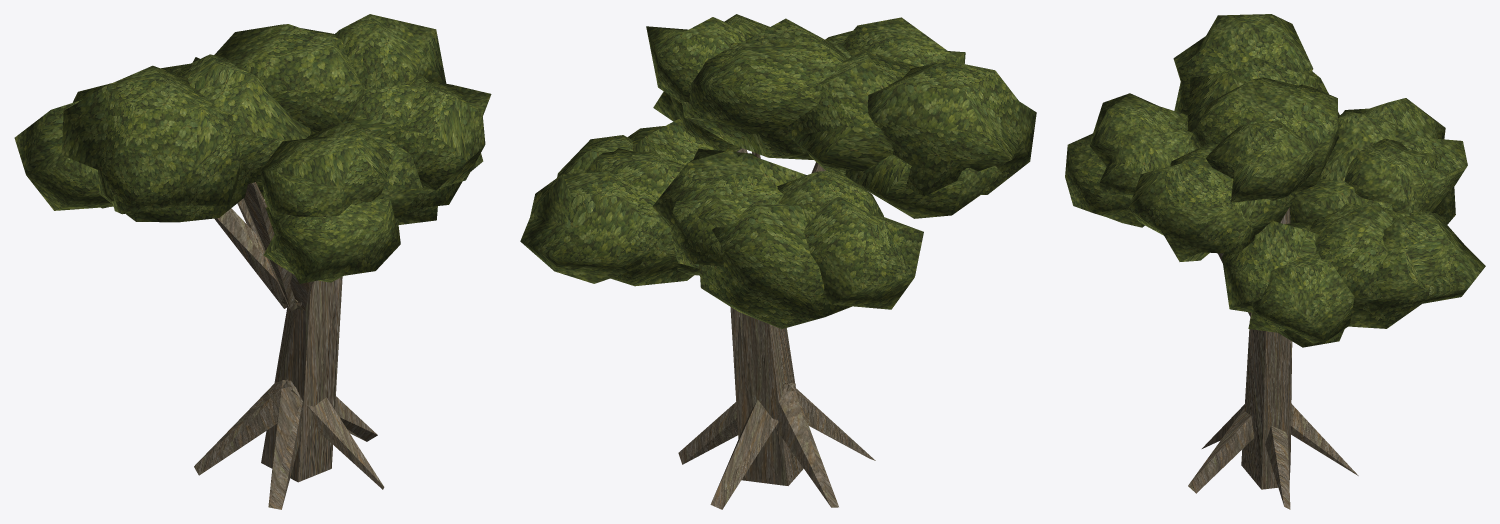
Rendered from tree_oak_b.gltf.
The picture shows the model from 3 angles, left to right: view 1: azimuth 30°, elevation 25°; view 2: azimuth 150°, elevation 25°; view 3: azimuth 270°, elevation 25°; orthographic projection. The views are drawn at different scales.
Visible parts, largest first — view 1: tree_oak_b_game; view 2: tree_oak_b_game; view 3: tree_oak_b_game.
Boxes of the visible parts, x1=… form: tree_oak_b_game: x1=14, y1=14, x2=491, y2=509; tree_oak_b_game: x1=520, y1=14, x2=1036, y2=509; tree_oak_b_game: x1=1065, y1=14, x2=1485, y2=509.
Size of the model in its own units: 0.4227 by 0.4144 by 0.4065.
Materials: 2 (2 with a texture image).
